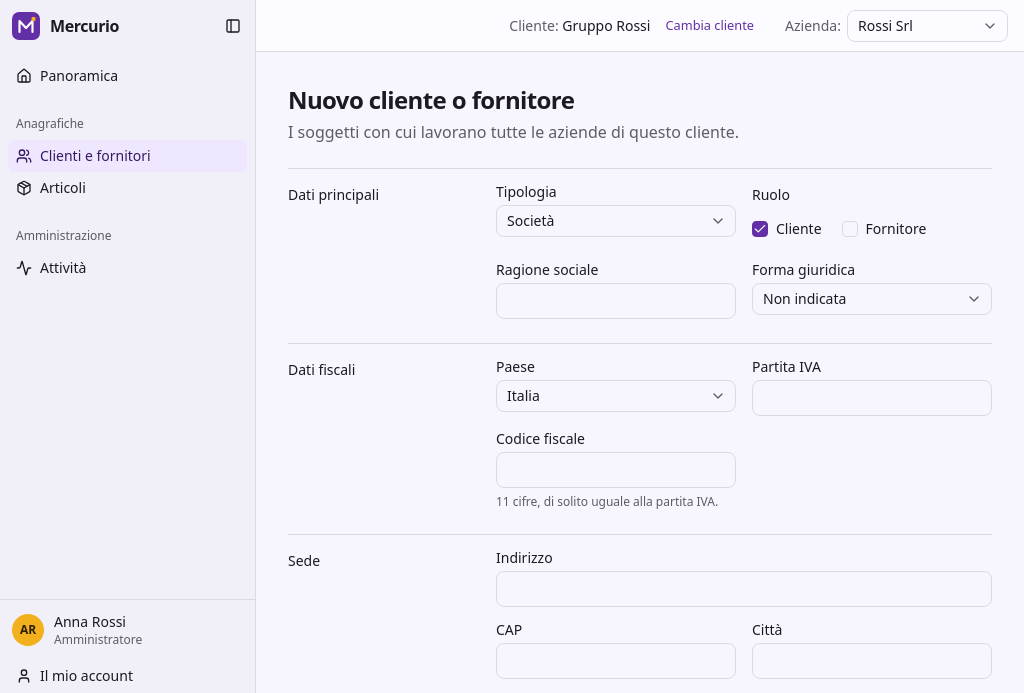
Test: party record › proposes the party that already has the VAT number, when the field is left
Type "IT 12345678903" into the field labelled "Partita IVA". click: [872, 398]
box: x1=752 y1=380 x2=992 y2=416
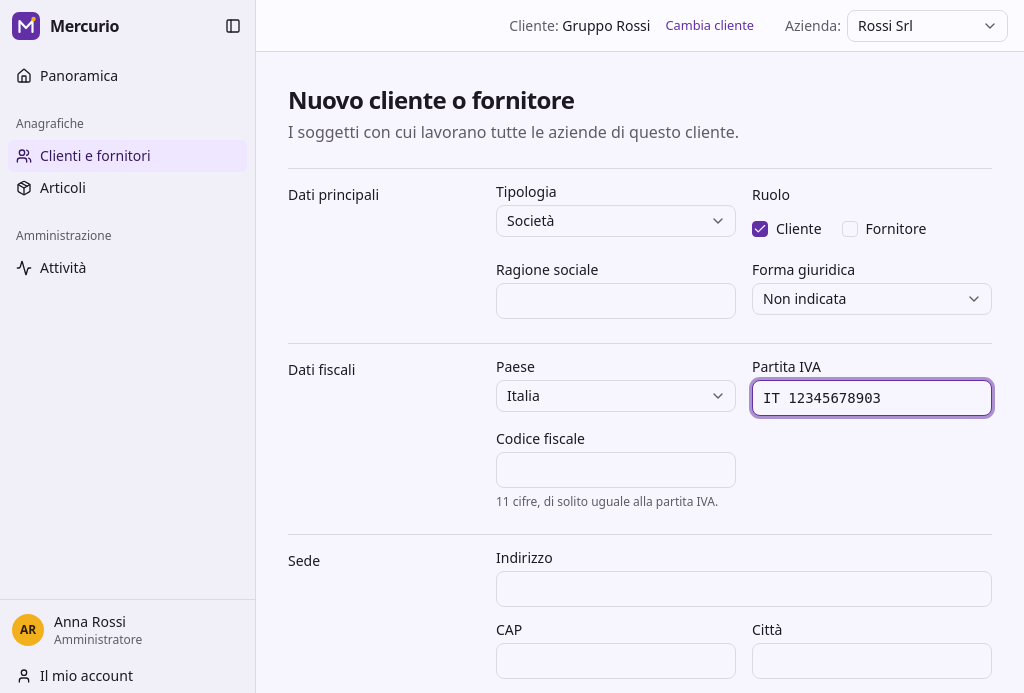
Press Tab
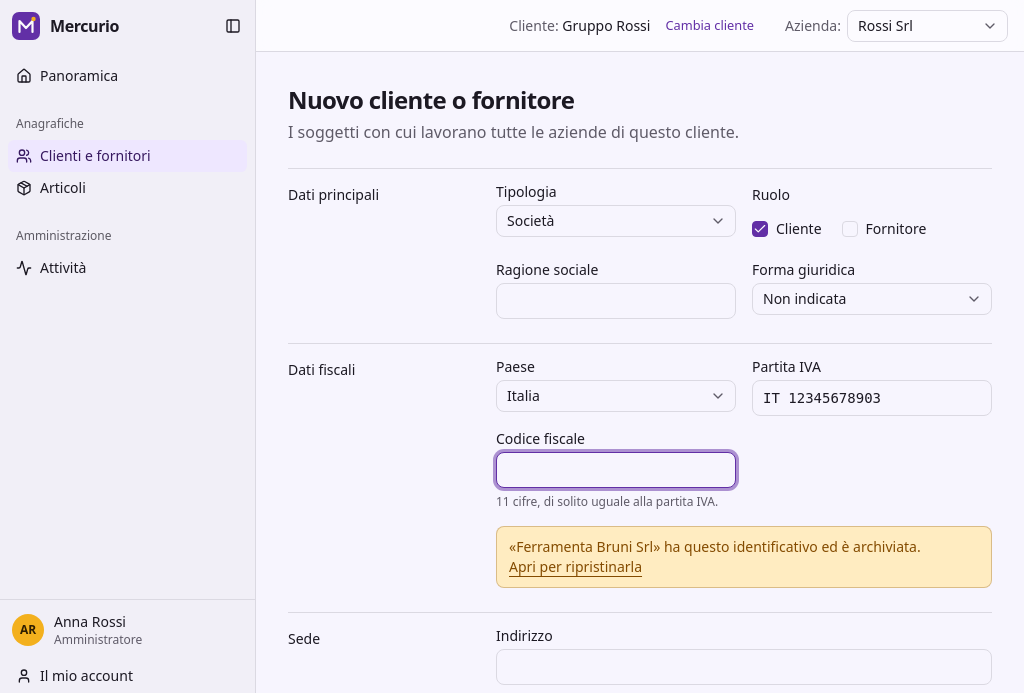
Result: the text "ha questo identificativo ed è archiviata" is shown at x1=509 y1=537 x2=921 y2=556
